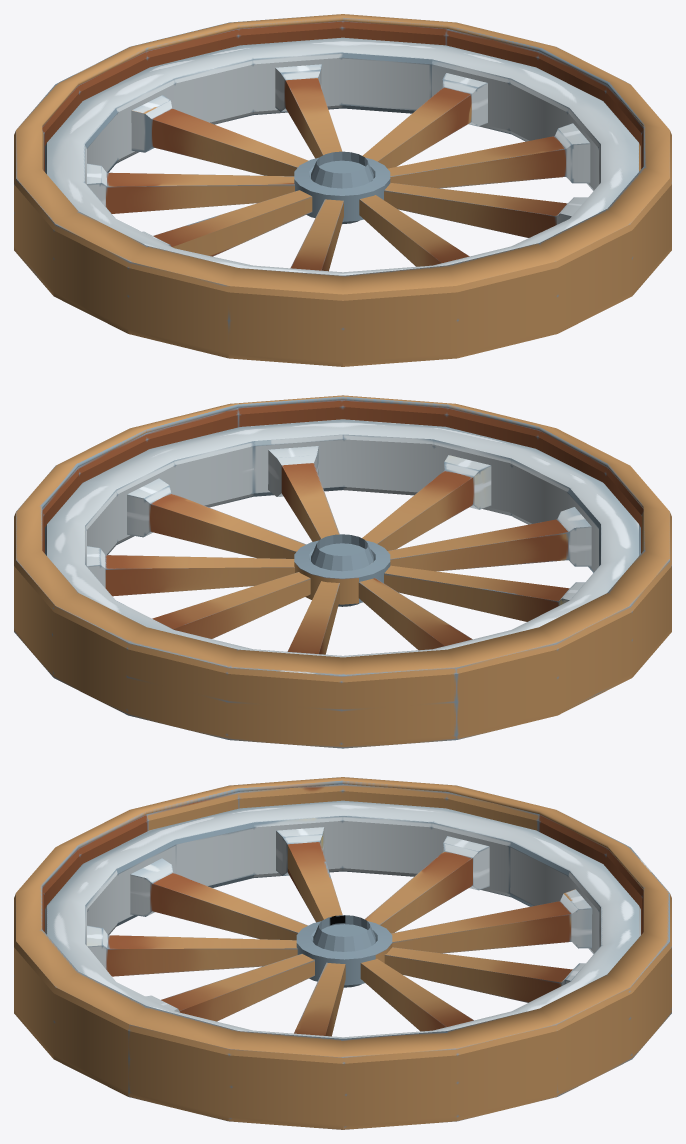
File: Wheel.FBX
3 views of the same model, one above another, from view 1: azimuth 30°, elevation 25°; view 2: azimuth 150°, elevation 25°; view 3: azimuth 270°, elevation 25° (orthographic).
Parts seen in each view (by area): view 1: Object001; view 2: Object001; view 3: Object001.
Part boxes in pixels (x1,y1,x2,y2): Object001: (14, 14, 671, 366); Object001: (14, 395, 671, 748); Object001: (14, 777, 671, 1129).
Bounding box in the file's own units: 66.44 × 9.89 × 65.44.
Materials: 1 (1 with a texture image).
